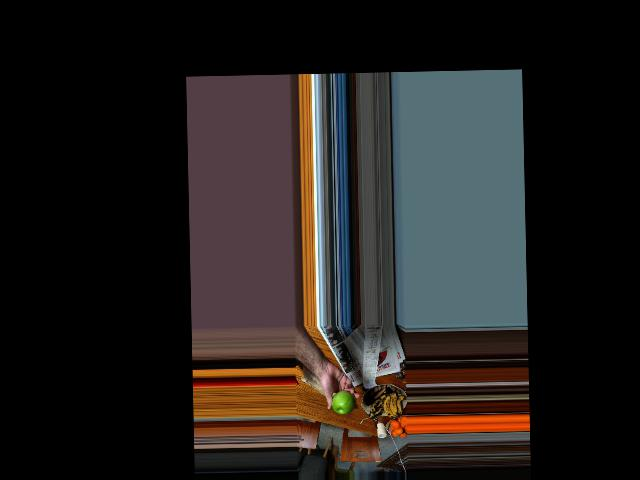apple: (331, 390, 355, 416)
